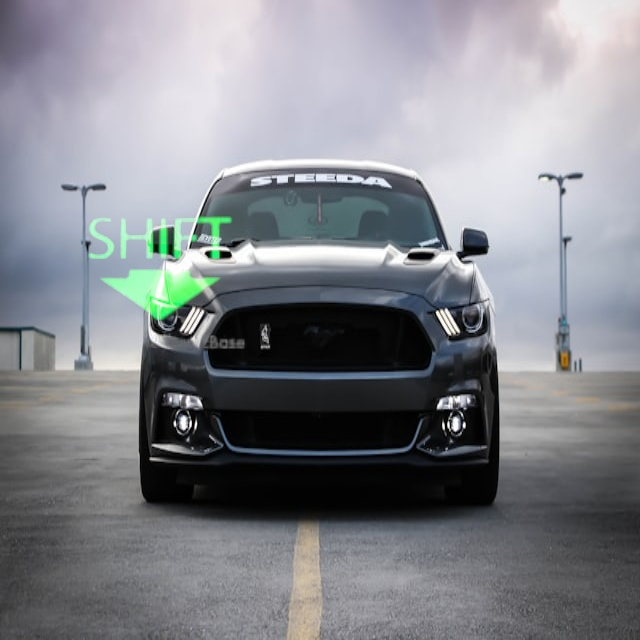symbol: (62, 168, 252, 358)
